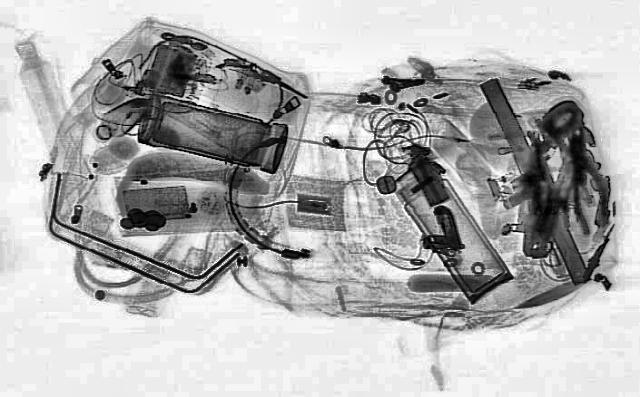Pliers: (556, 128, 618, 234)
